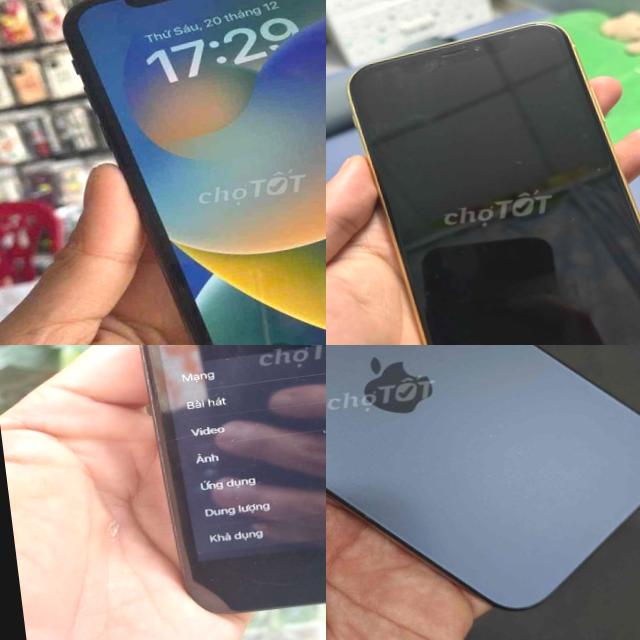scratch: (119, 345, 168, 463), (220, 567, 292, 595)
